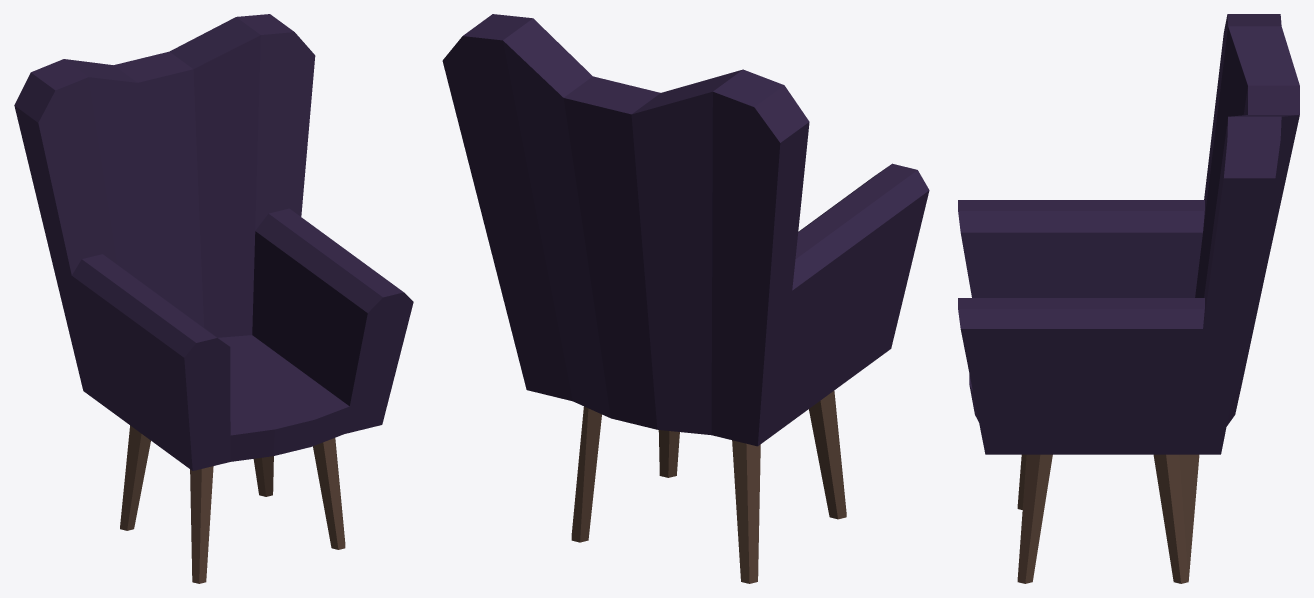
Rendered from fauteuil.FBX.
3 renders of one model, left to right at view 1: azimuth 30°, elevation 25°; view 2: azimuth 150°, elevation 25°; view 3: azimuth 270°, elevation 25°, orthographic. The views are drawn at different scales.
Parts seen in each view (by area): view 1: fauteuil; view 2: fauteuil; view 3: fauteuil.
Part boxes in pixels (x1=…): fauteuil: x1=14, y1=14, x2=413, y2=583; fauteuil: x1=442, y1=14, x2=929, y2=583; fauteuil: x1=958, y1=14, x2=1299, y2=583.
Size of the model in its own units: 57 by 86.21 by 56.57.
1 material, 1 textured.
